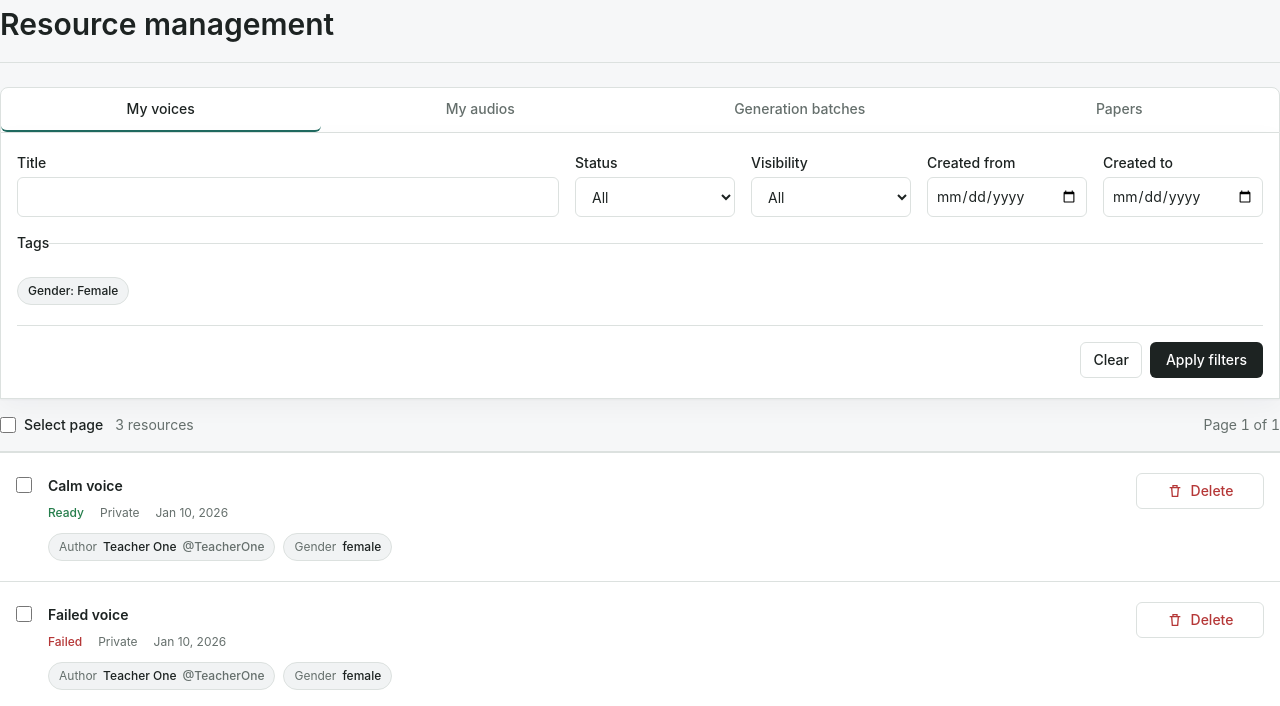
Test case: resource management view › shows detailed bulk outcomes and keeps unsuccessful items selected
Click the checkbox named "Select Calm voice" at [24, 485], box [16,477,32,493]
(page scrolled)
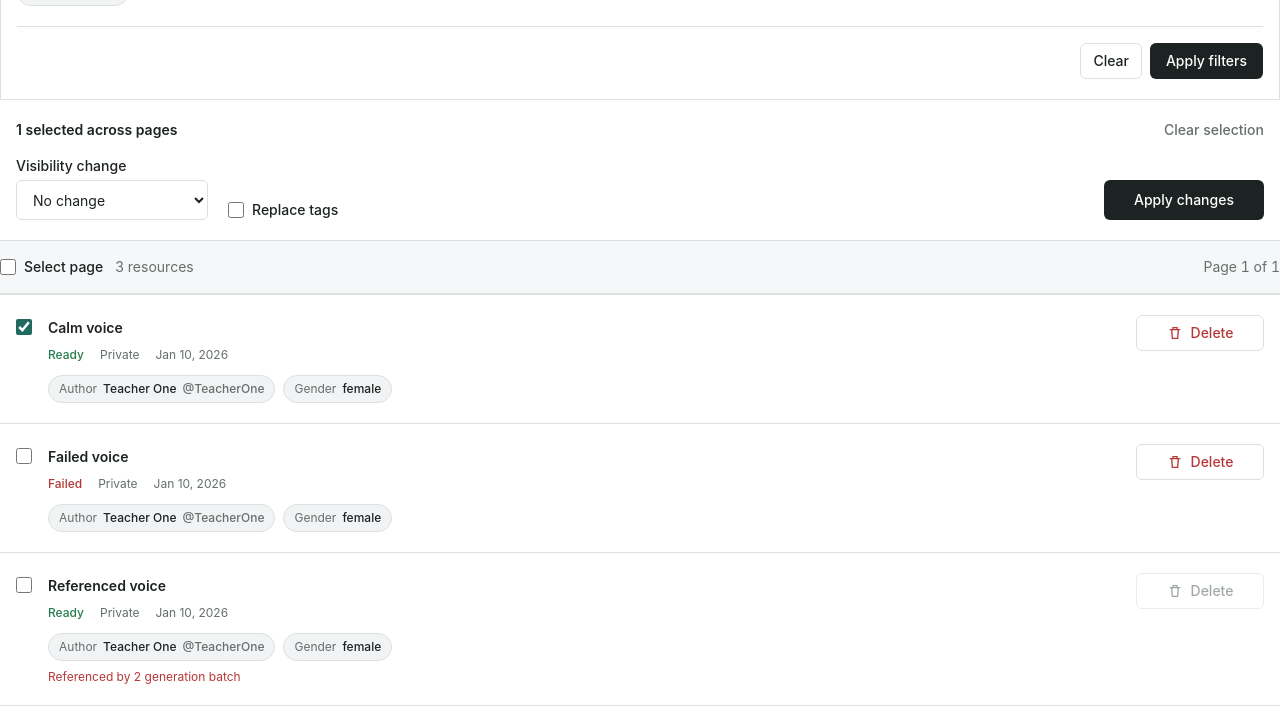
Click the checkbox named "Select Failed voice" at [24, 456], box [16,448,32,464]
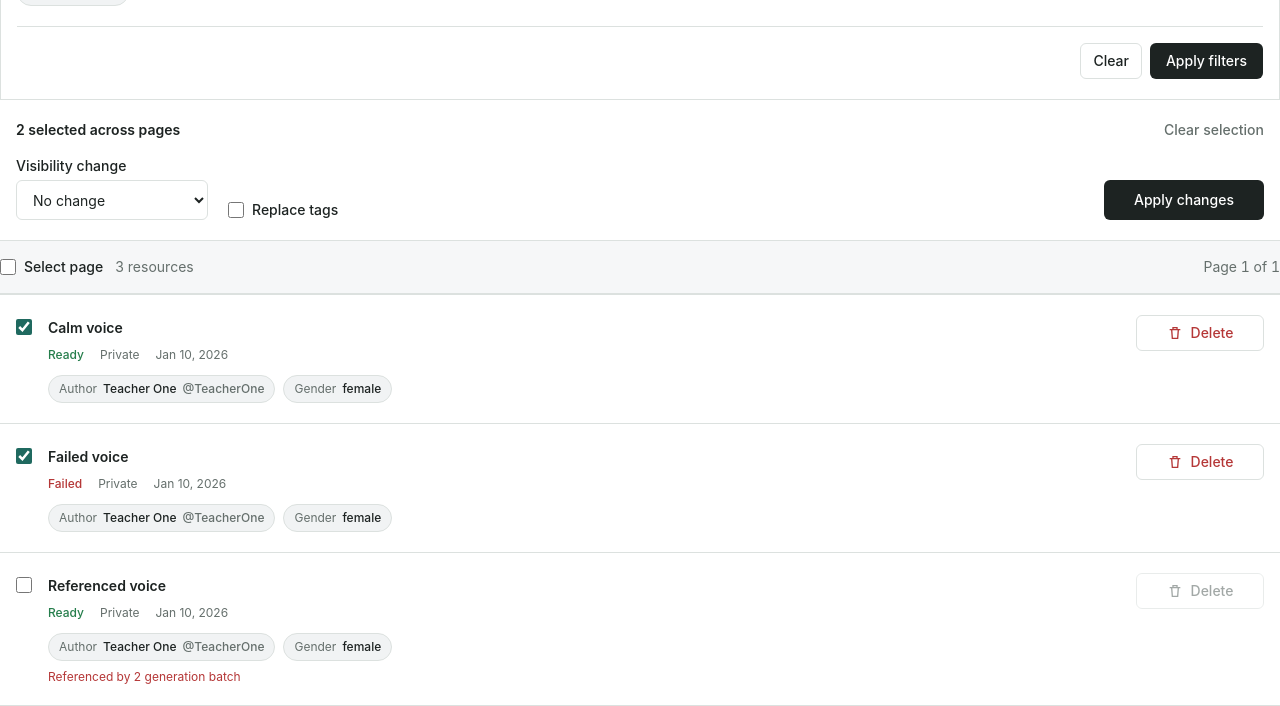
Click the checkbox named "Select Referenced voice" at [24, 585], box [16,577,32,593]
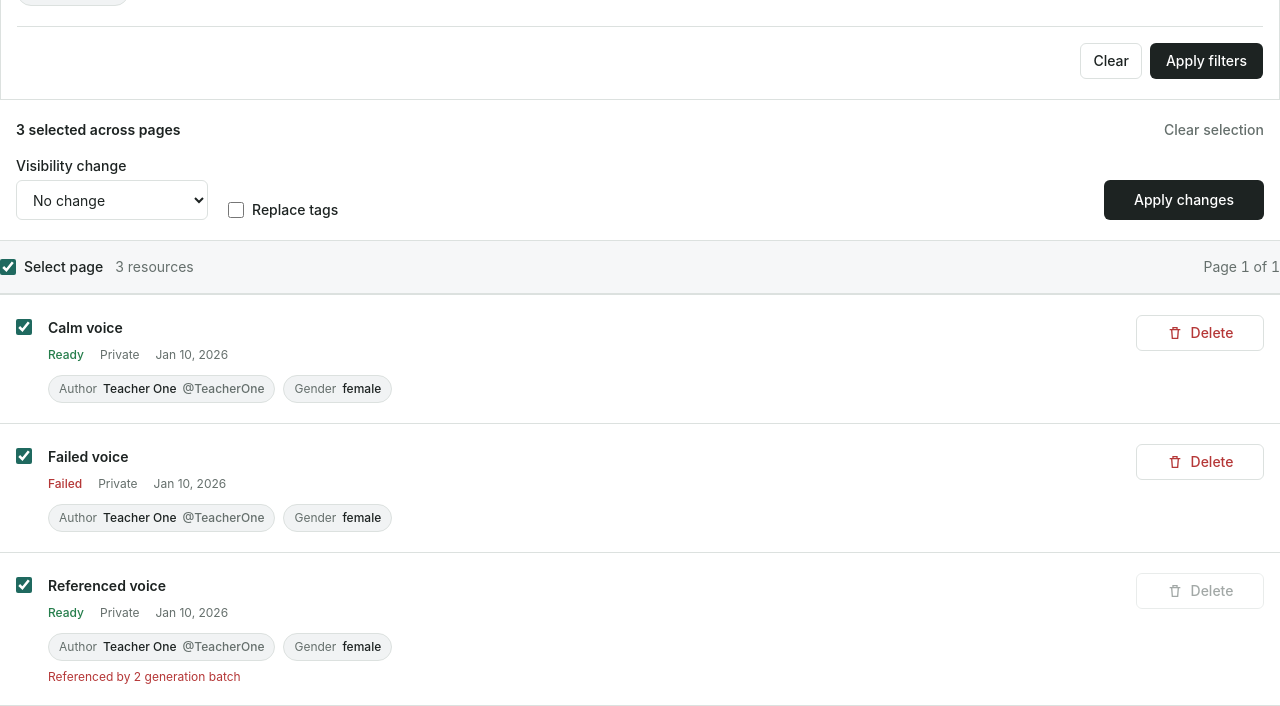
Select "Public" in the dropdown with id "bulk-visibility" at [112, 200], box [16,180,208,220]
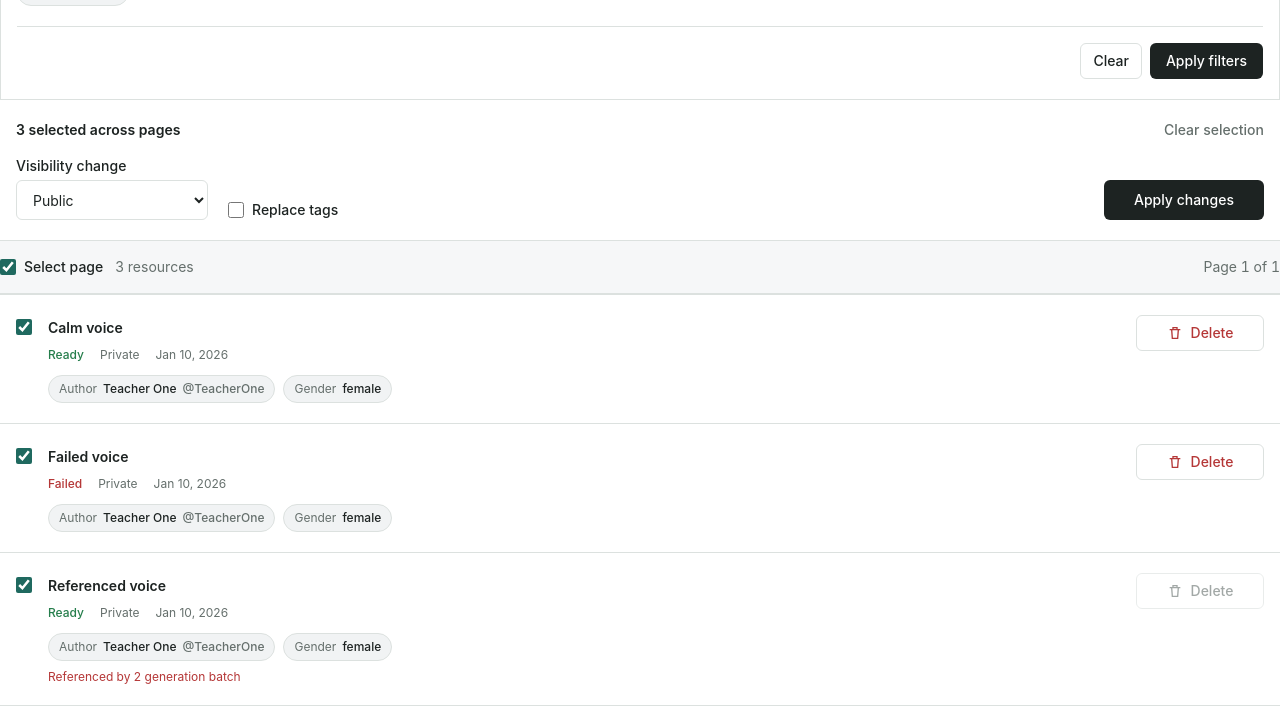
Click the button "Apply changes" at [1184, 200], box [1104,180,1264,220]
(page scrolled)
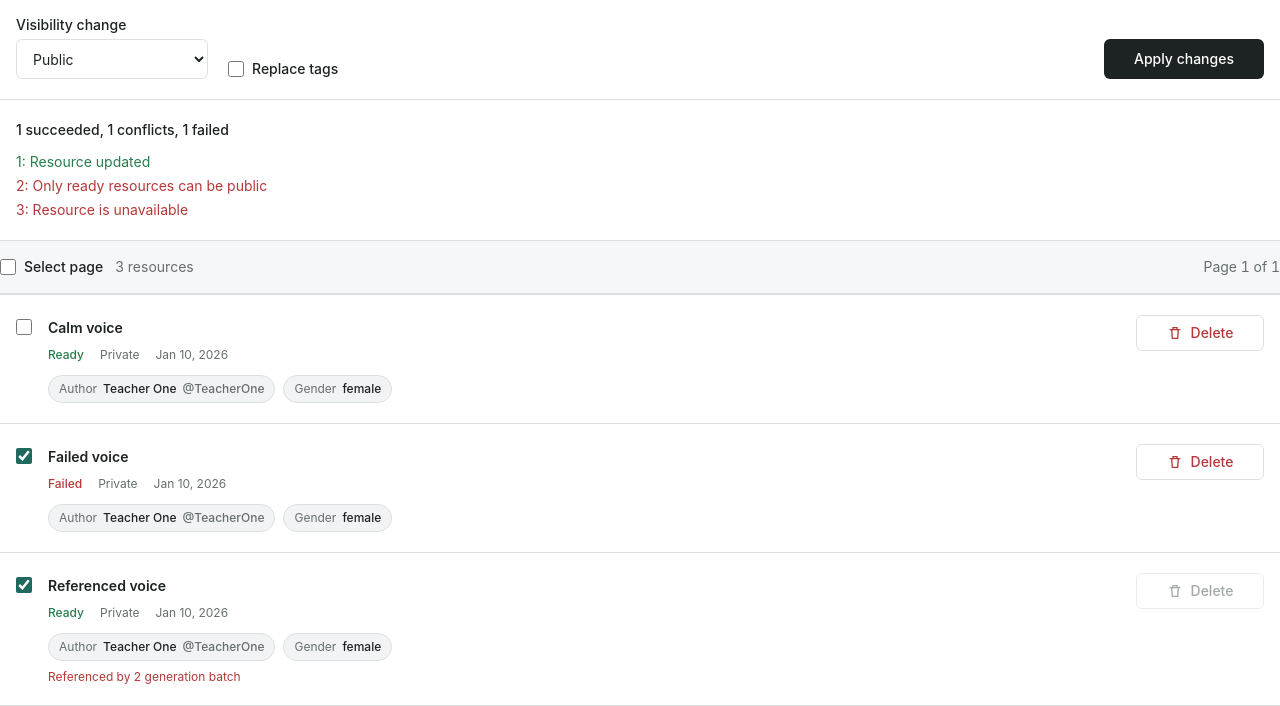
Expected: the text "Referenced by 2 generation batch" is shown, [48,669,241,684]
Expected: the text "1 succeeded, 1 conflicts, 1 failed" is shown, [16,121,229,138]
Expected: the text "2: Only ready resources can be public" is shown, [16,177,267,194]
